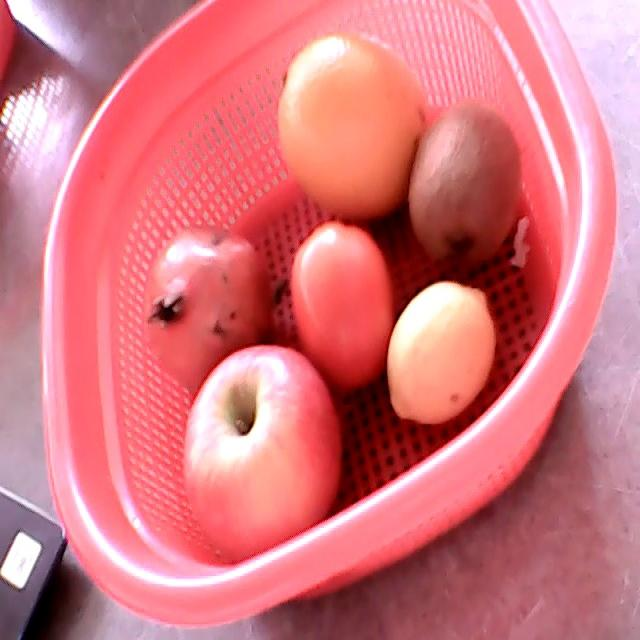apple: (182, 345, 342, 556)
kiwi: (409, 98, 521, 267)
lemon: (387, 281, 495, 424)
orange: (277, 30, 426, 219)
pomegranate: (142, 225, 270, 389)
tomato: (290, 223, 395, 394)
